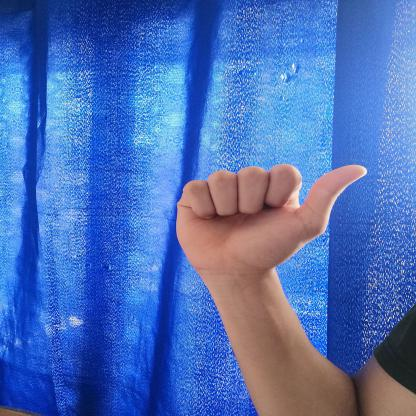DAD: (160, 152, 381, 288)
